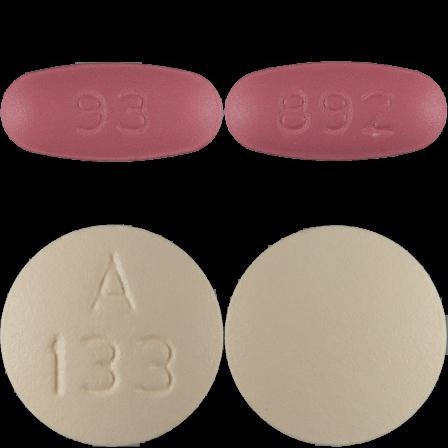66336-878: (0, 0, 224, 224)
